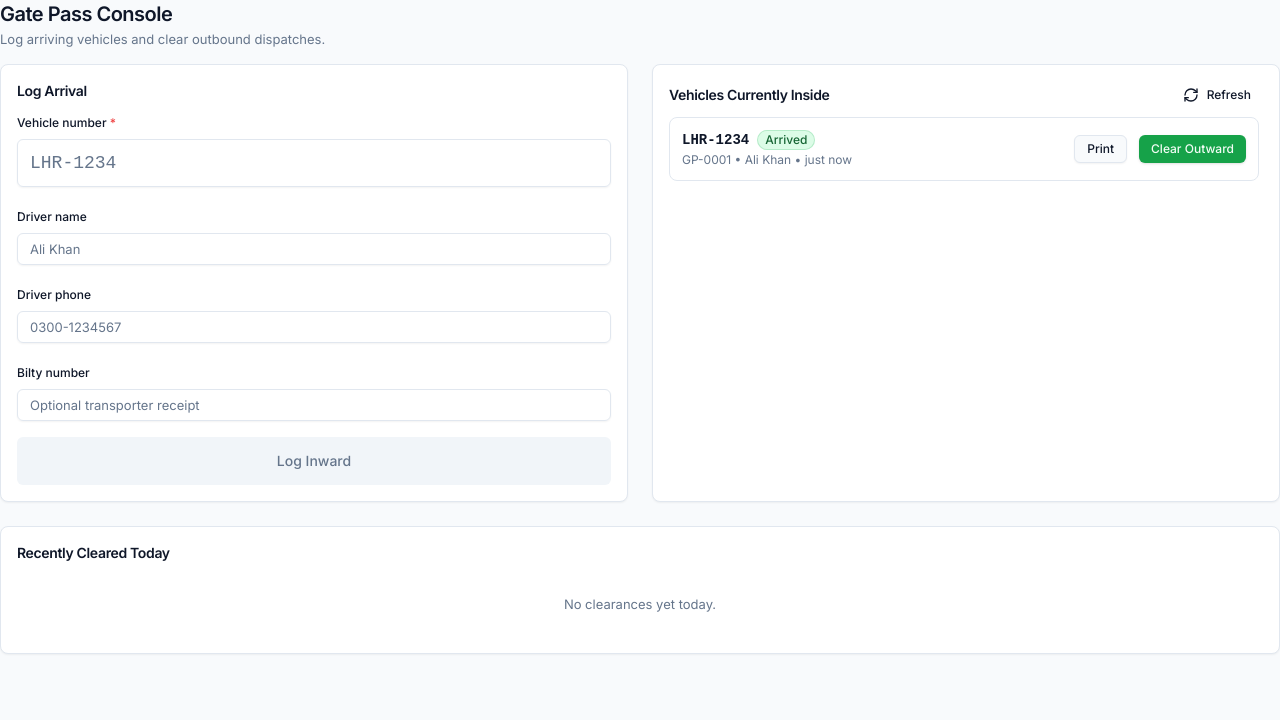
Test: GatePassConsolePage — clear outward › on a count mismatch a guard is told to recount and gets no override
Click the button "Clear Outward" at (1193, 149), box left=1139, top=135, right=1246, bottom=163
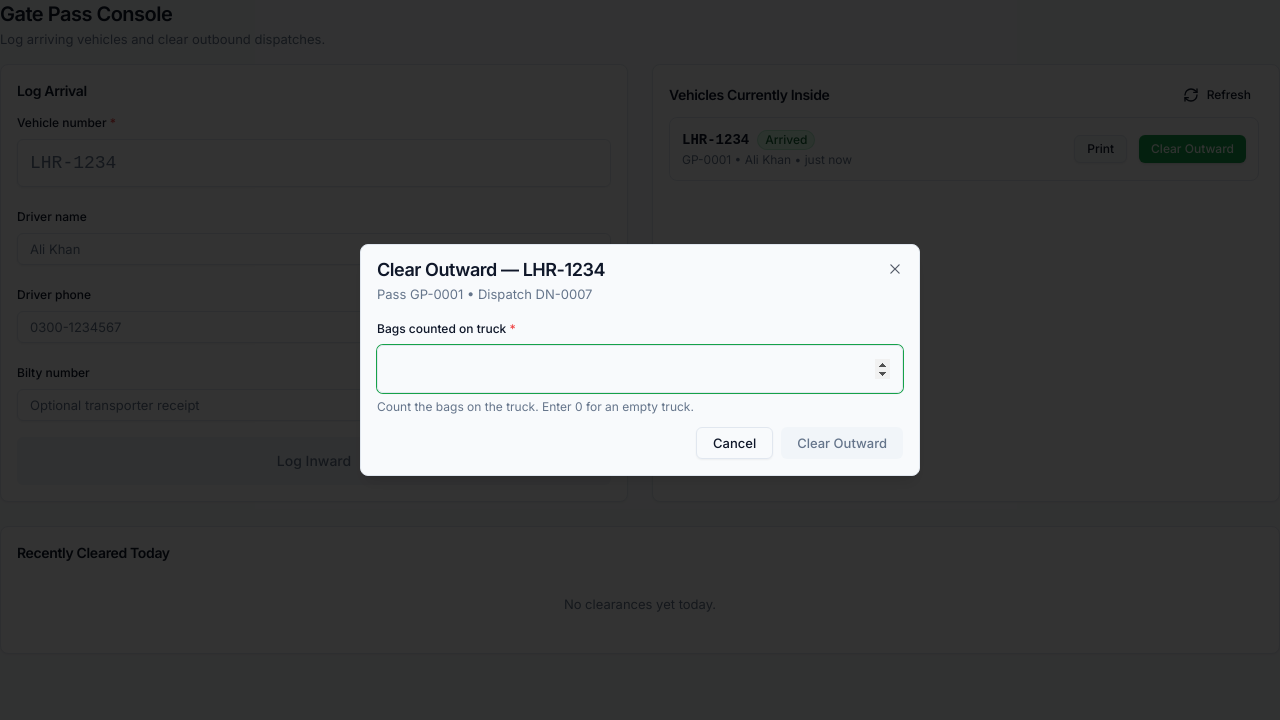
Type "130" into the number field labelled "Bags counted on truck *" at (640, 369), box left=377, top=345, right=903, bottom=393
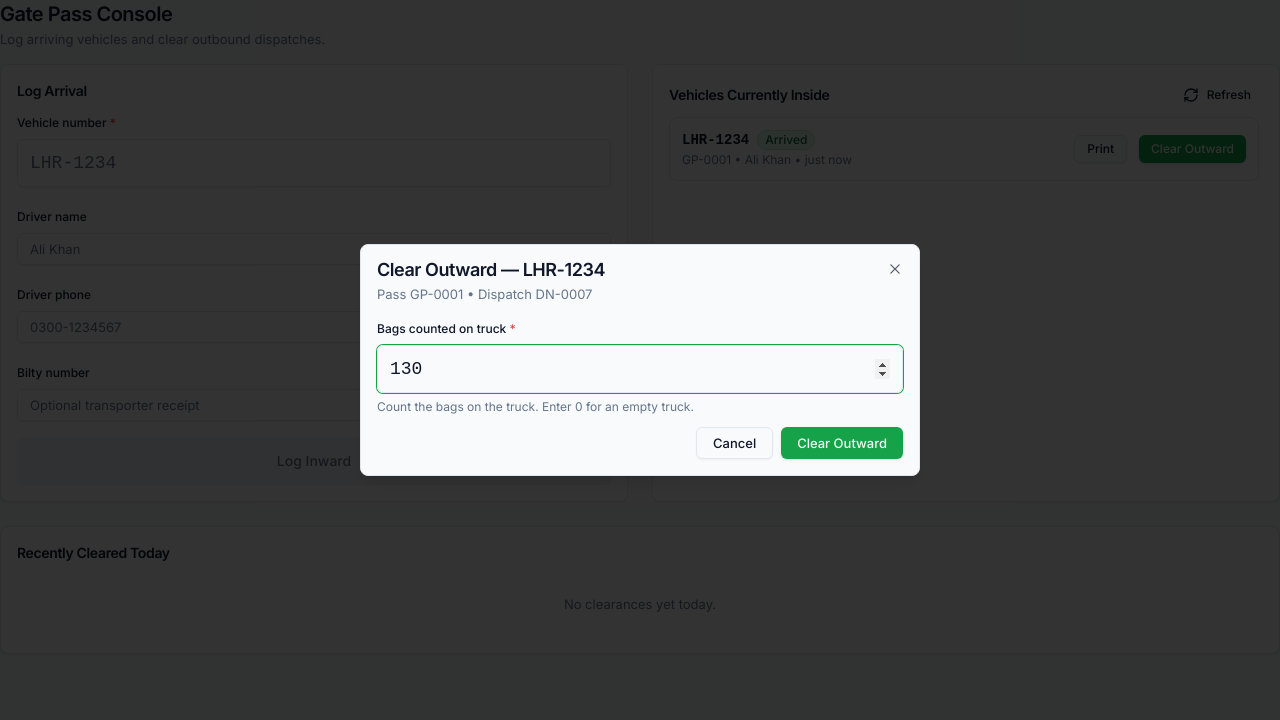
Click the button "Clear Outward" at (842, 443), box left=781, top=427, right=903, bottom=459
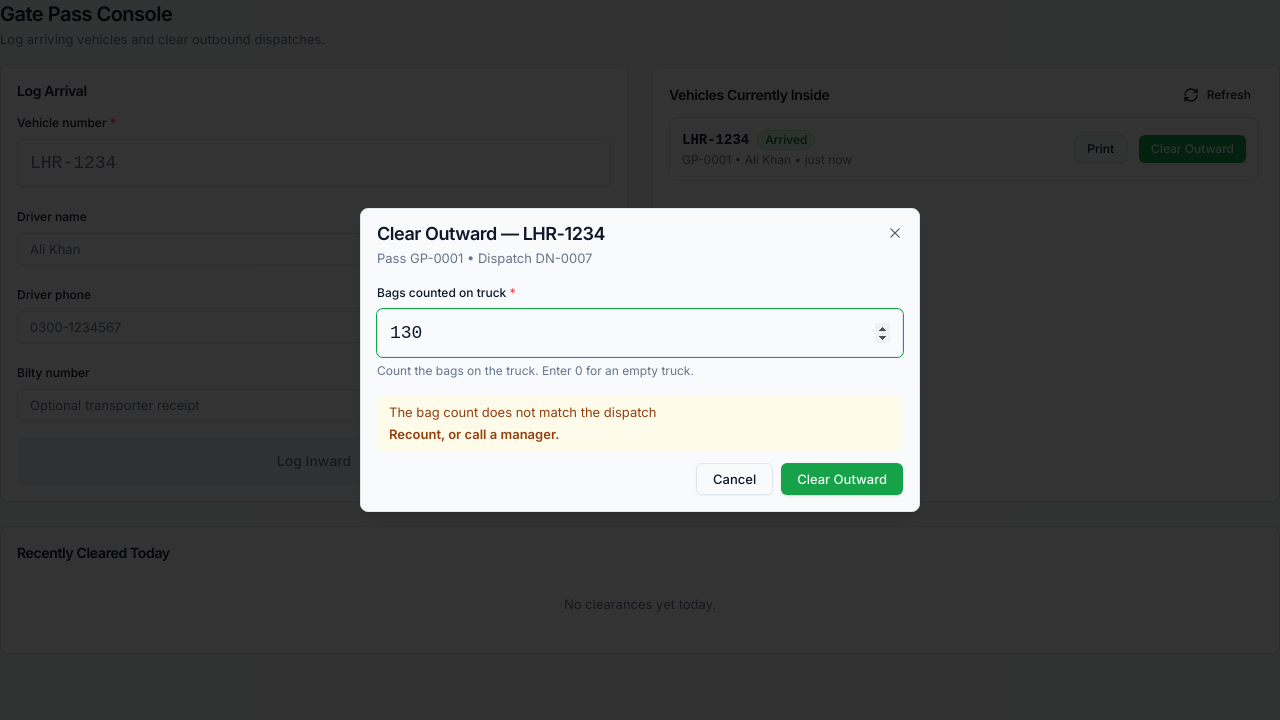
Check: the text "Recount, or call a manager." is shown once, box left=389, top=426, right=559, bottom=442
Check: the text "The bag count does not match the dispatch" is shown, box left=389, top=404, right=656, bottom=420
